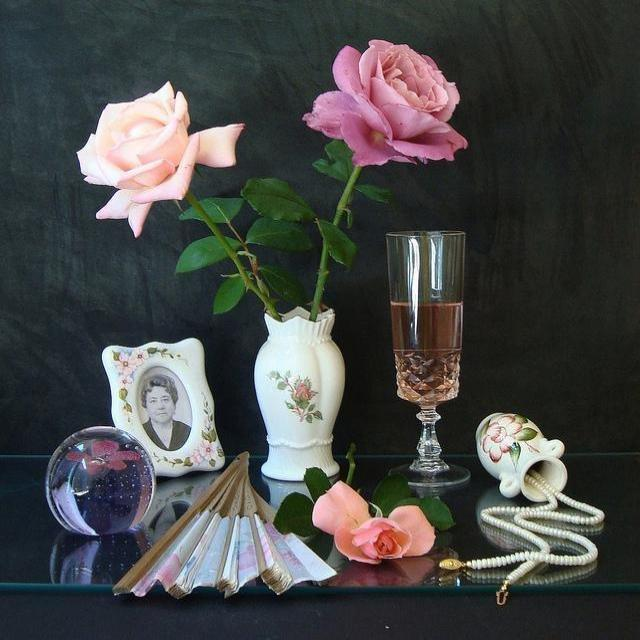glass-wine: (386, 230, 473, 487)
